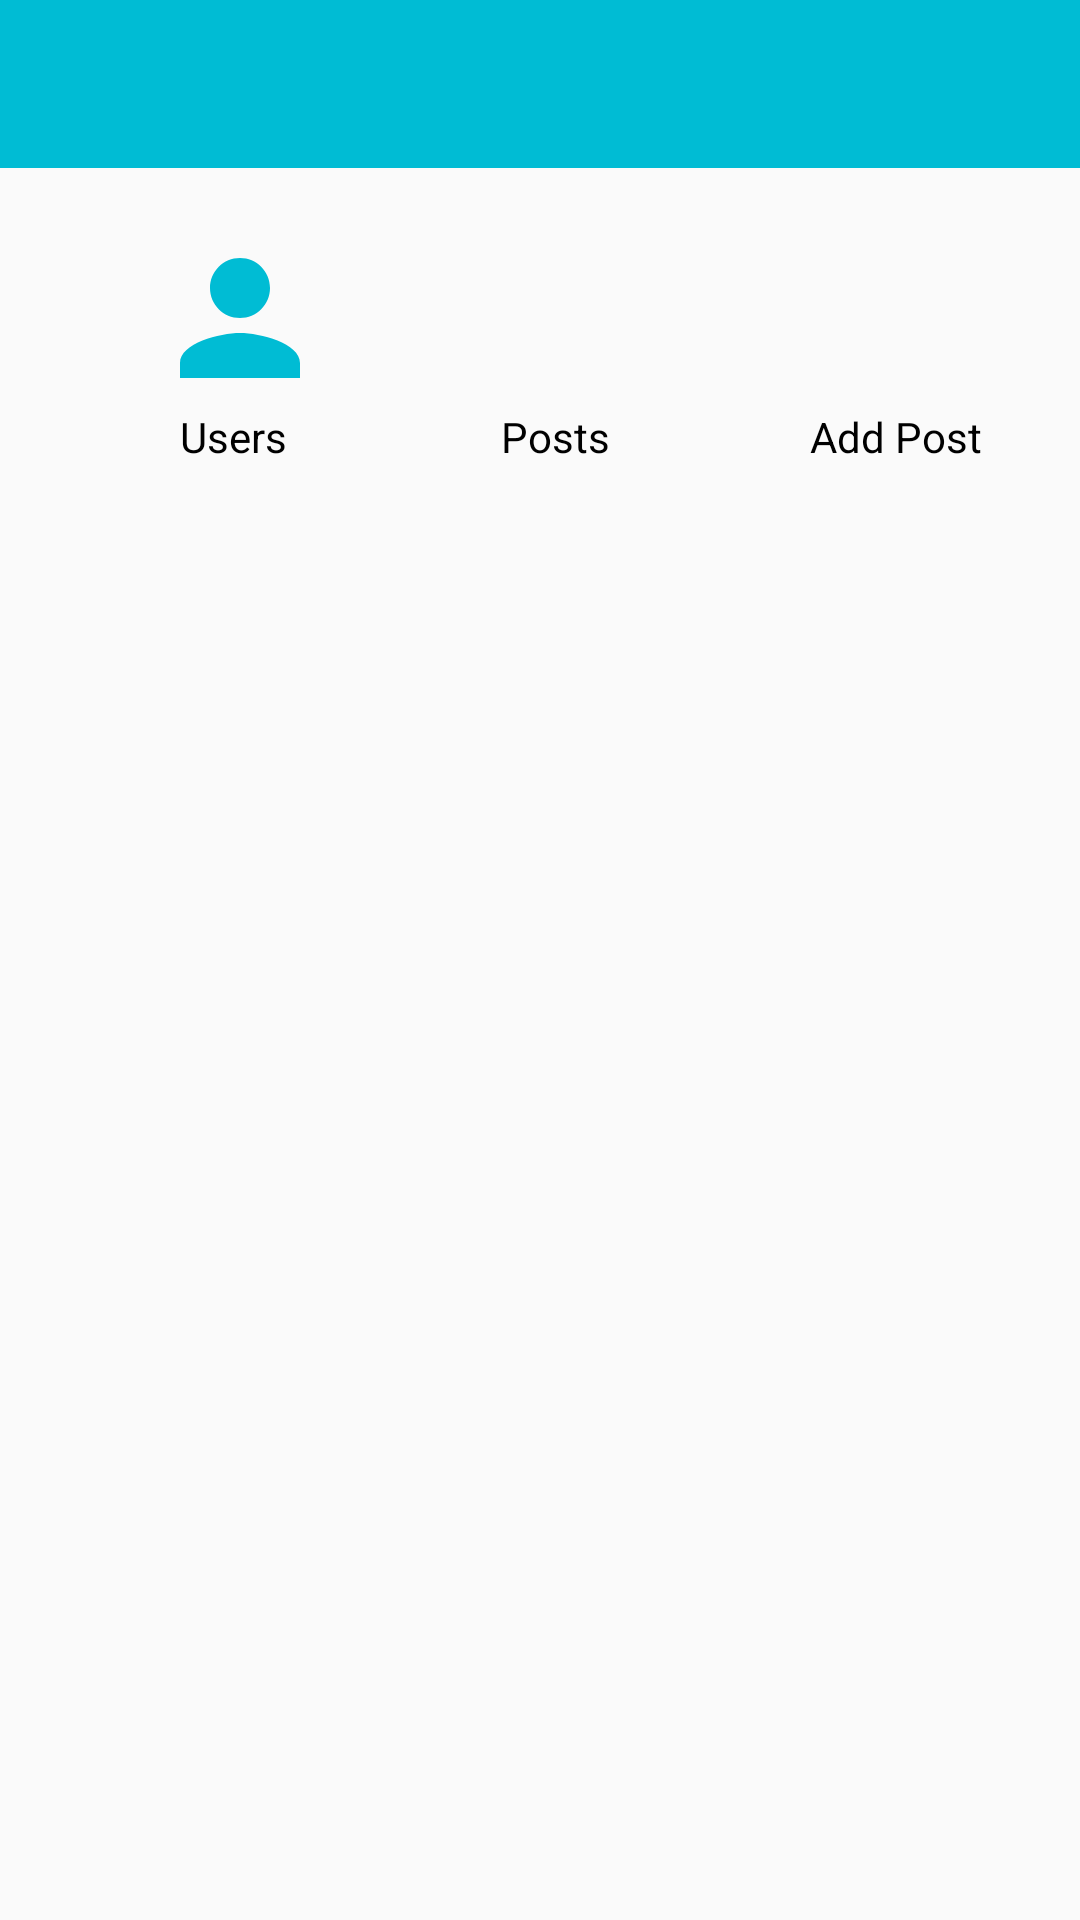

Icon bounding boxes for this 1080w x 1920h phone screenshot, format BBox(x1, y1, x2, y2):
person: BBox(180, 258, 300, 378)
